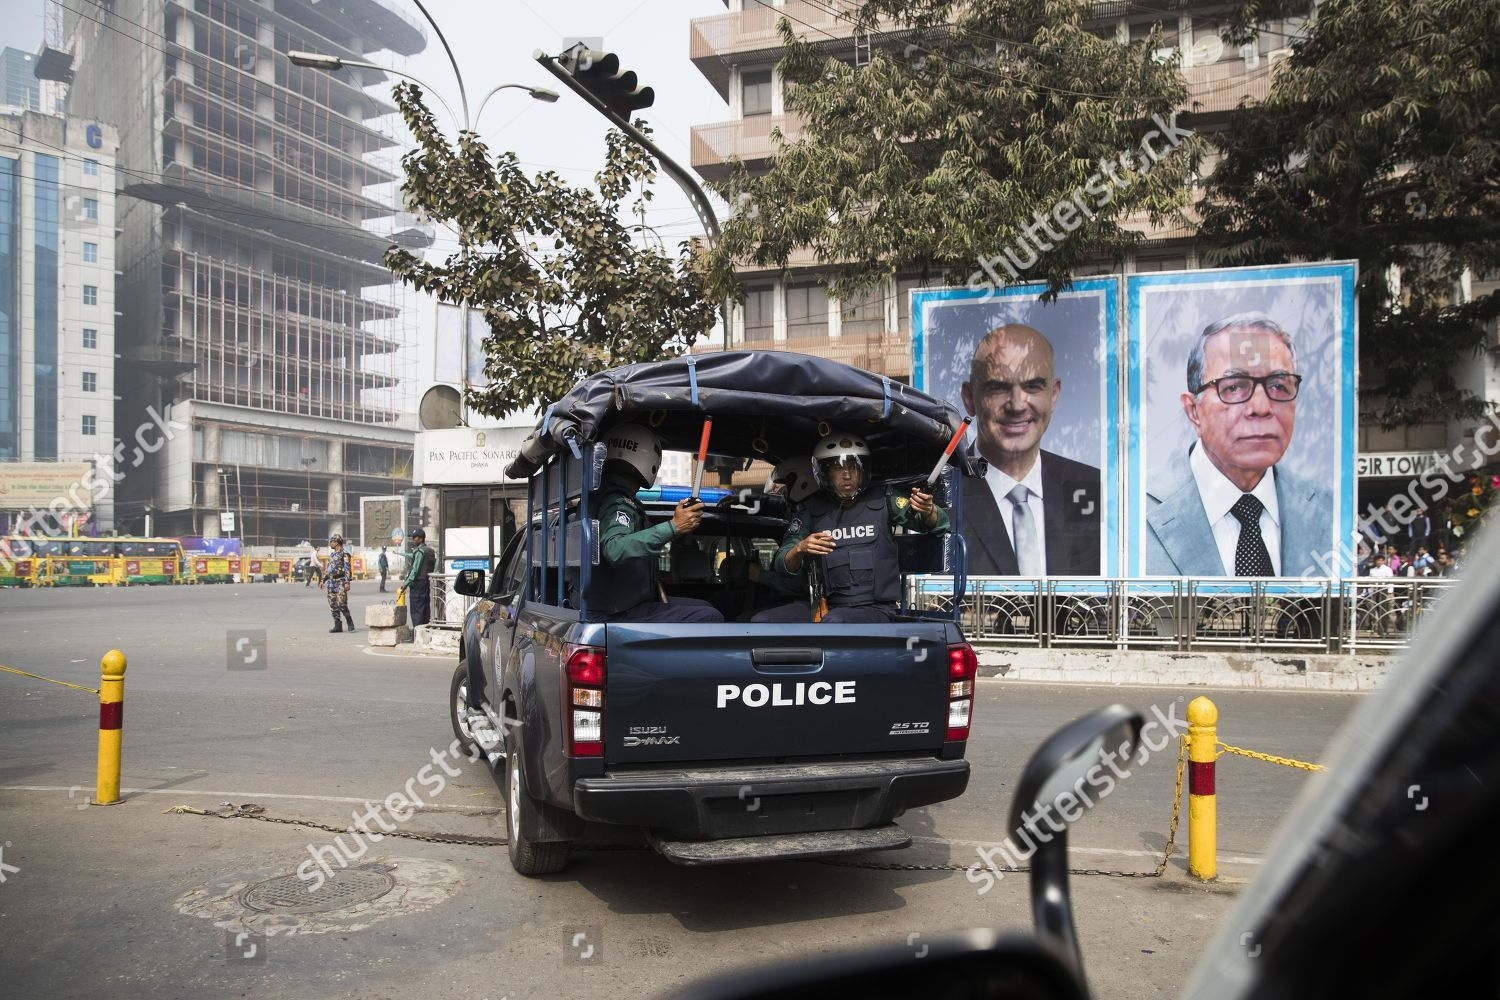bus: (1, 536, 187, 556)
policecar: (448, 346, 982, 882)
